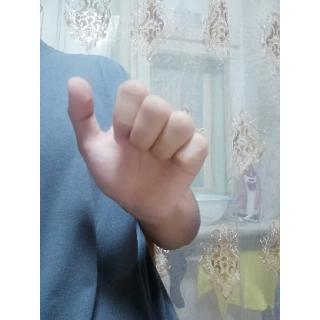DAD: (61, 72, 210, 229)
